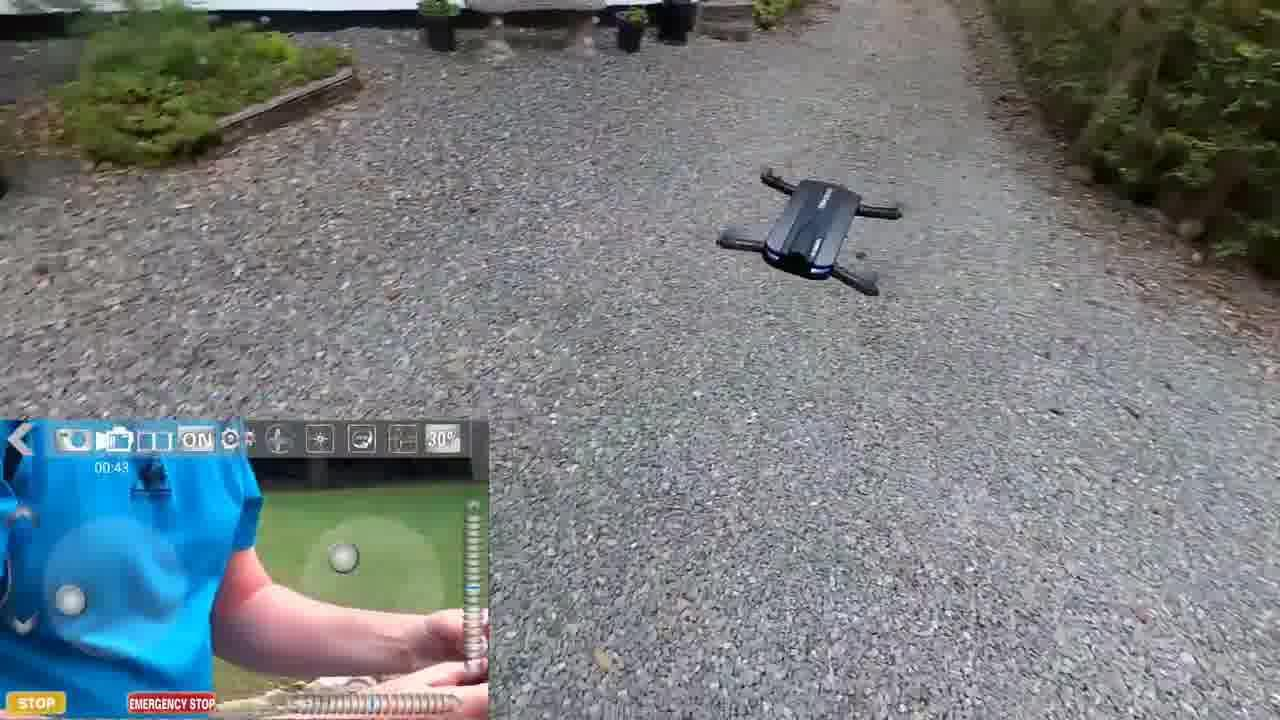drone: (717, 165, 907, 298)
